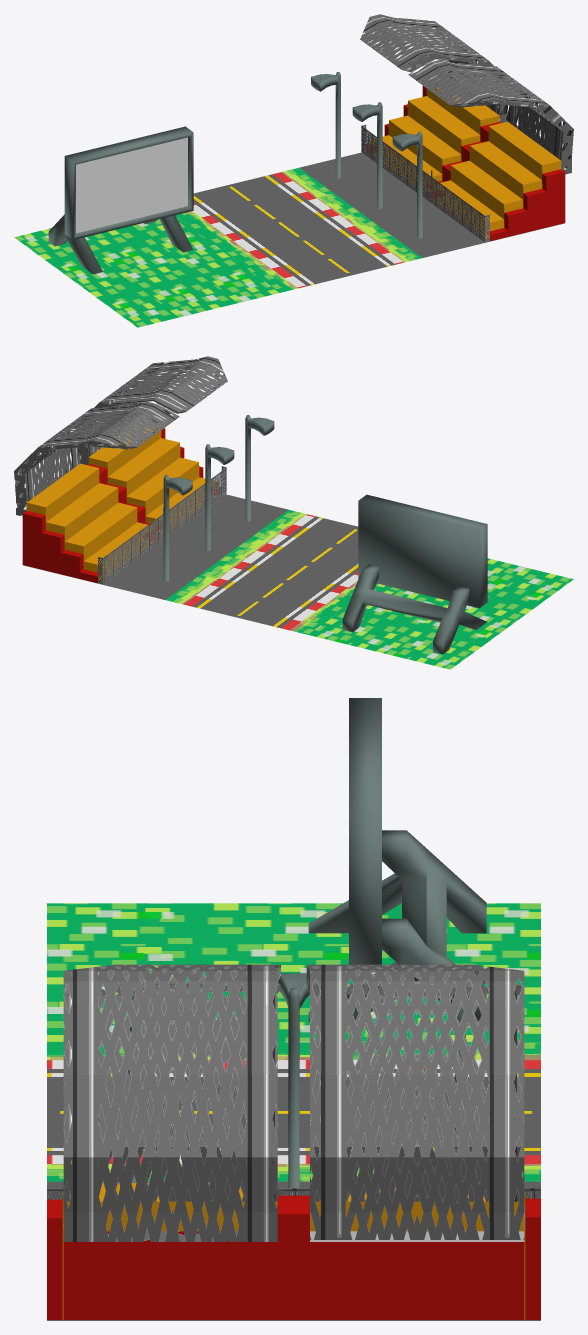
Rendered from AddsMapa.fbx.
3 views of the same model, one above another, from view 1: azimuth 30°, elevation 25°; view 2: azimuth 150°, elevation 25°; view 3: azimuth 270°, elevation 25° (orthographic). The views are drawn at different scales.
Parts seen in each view (by area): view 1: Asientos.001, Plane.005, Plane.003, Cube.001, Plane.004, Cylinder.001, Cube.002; view 2: Asientos.001, Plane.005, Cube.001, Plane.003, Plane.004, Cube.002, Cylinder.001; view 3: Asientos.001, Plane.003, Cube.002, Plane.005, Cube.001, Cylinder.001, Plane.004.
Part boxes in pixels (x1=…): Asientos.001: x1=360, y1=14, x2=573, y2=241; Plane.005: x1=175, y1=168, x2=422, y2=292; Plane.003: x1=14, y1=217, x2=279, y2=327; Cube.001: x1=64, y1=126, x2=193, y2=239; Plane.004: x1=299, y1=151, x2=564, y2=257; Cylinder.001: x1=311, y1=72, x2=422, y2=238; Cube.002: x1=48, y1=214, x2=193, y2=274; Asientos.001: x1=14, y1=356, x2=227, y2=584; Plane.005: x1=165, y1=510, x2=377, y2=634; Cube.001: x1=358, y1=494, x2=487, y2=608; Plane.003: x1=308, y1=558, x2=573, y2=669; Plane.004: x1=23, y1=494, x2=288, y2=599; Cube.002: x1=342, y1=564, x2=486, y2=654; Cylinder.001: x1=163, y1=415, x2=274, y2=581; Asientos.001: x1=47, y1=964, x2=540, y2=1319; Plane.003: x1=47, y1=903, x2=540, y2=1042; Cube.002: x1=308, y1=830, x2=486, y2=1021; Plane.005: x1=47, y1=1042, x2=540, y2=1181; Cube.001: x1=349, y1=698, x2=381, y2=972; Cylinder.001: x1=118, y1=973, x2=471, y2=1195; Plane.004: x1=47, y1=1181, x2=540, y2=1320.
Size of the model in its own units: 6180 by 1845 by 3000.
10 materials, 3 textured.
